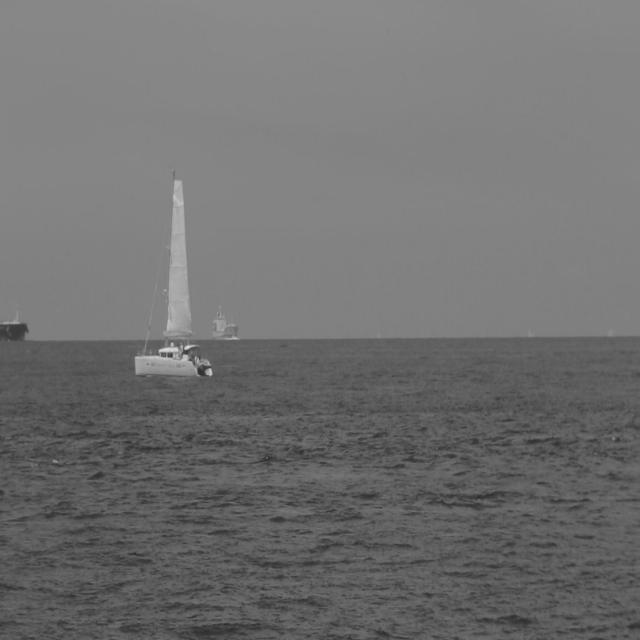boat: (137, 179, 216, 380)
ship: (1, 314, 24, 342), (212, 312, 235, 338)
